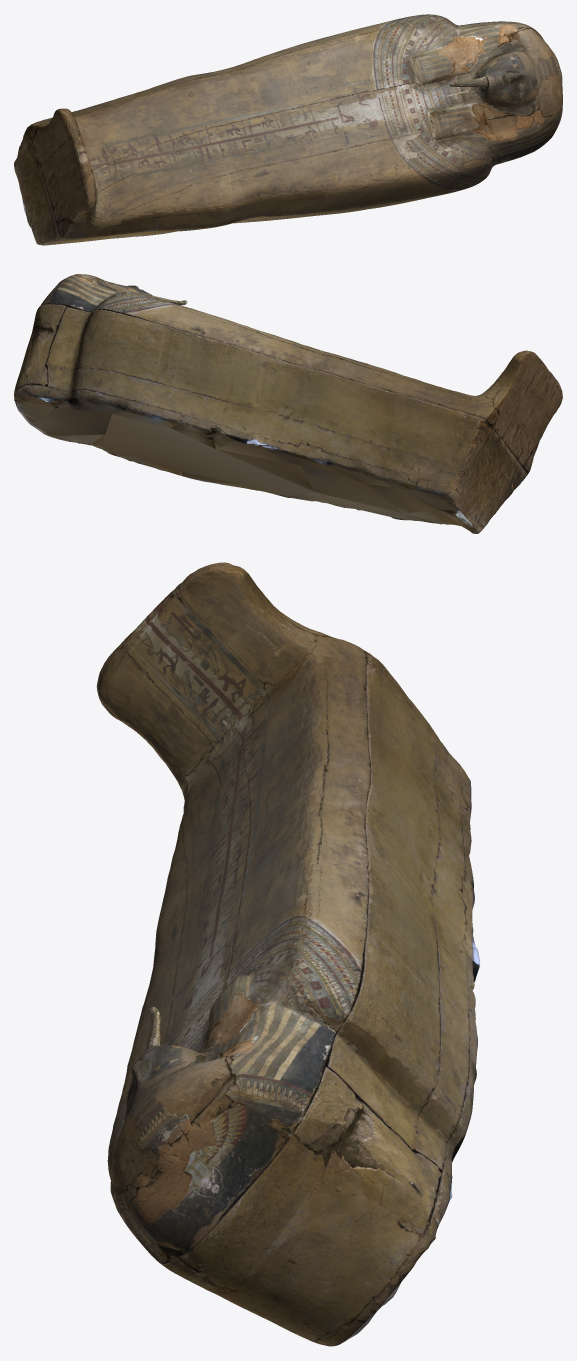
The model's file is iwefaa2scaled.obj.
3 views of the same model, one above another, from view 1: azimuth 30°, elevation 25°; view 2: azimuth 150°, elevation 25°; view 3: azimuth 270°, elevation 25° (orthographic). The views are drawn at different scales.
Size of the model in its own units: 2.08 by 0.763 by 0.7142.
4 materials, 4 textured.
